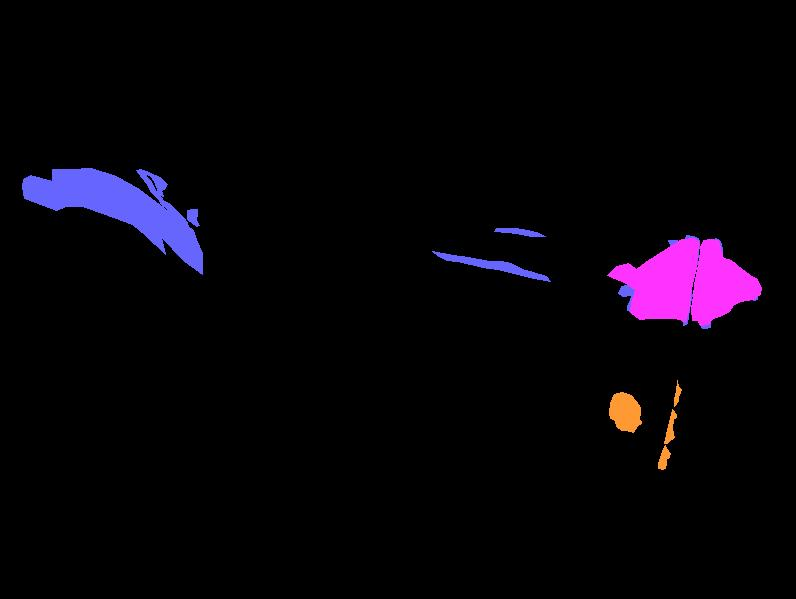Dent: (607, 238, 699, 322), (691, 239, 761, 325)
Paint chip: (609, 392, 641, 432), (664, 409, 676, 443), (658, 445, 670, 469), (674, 380, 681, 406)
Scratch: (22, 168, 202, 274), (432, 251, 550, 281), (136, 169, 188, 227), (668, 235, 699, 325), (618, 270, 671, 312), (698, 238, 722, 328), (146, 171, 167, 196), (494, 228, 545, 236), (720, 284, 746, 293), (187, 209, 199, 226), (747, 292, 757, 300)
